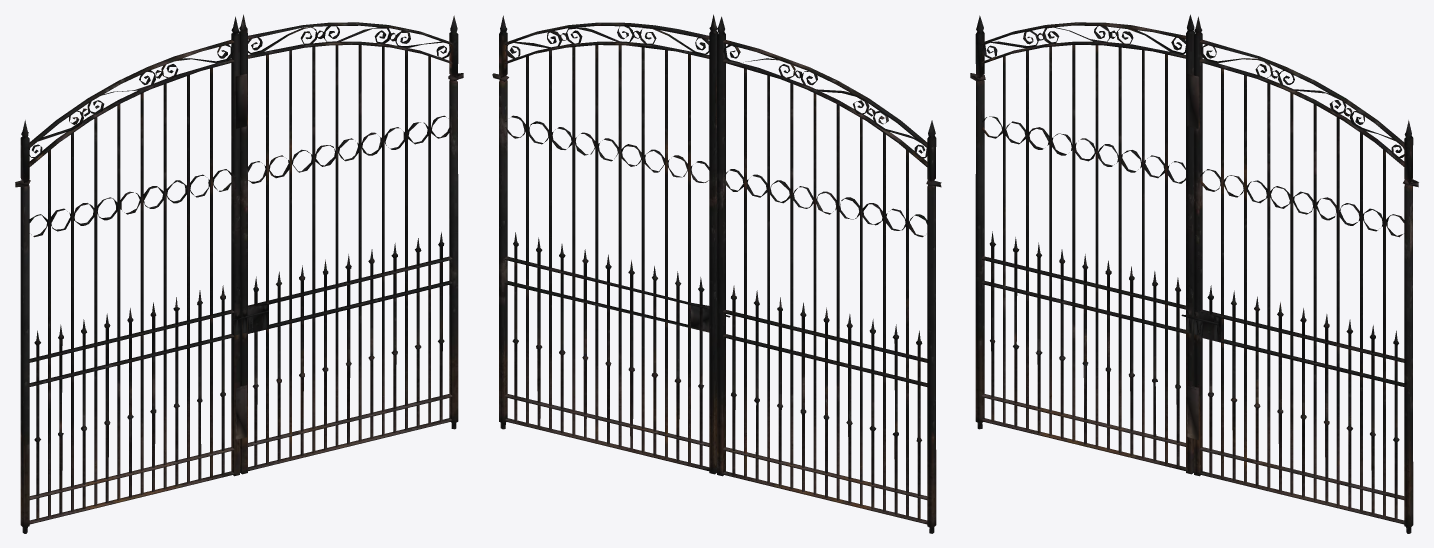
The model's file is large_iron_gate_1k_lo.glb.
The picture shows the model from 3 angles, left to right: view 1: azimuth 30°, elevation 25°; view 2: azimuth 150°, elevation 25°; view 3: azimuth 330°, elevation 25°; orthographic projection.
Parts seen in each view (by area): view 1: large_iron_gate_left_door, large_iron_gate_right_door; view 2: large_iron_gate_left_door, large_iron_gate_right_door; view 3: large_iron_gate_right_door, large_iron_gate_left_door.
Part boxes in pixels (x1,y1,x2,y2): large_iron_gate_left_door: (20,16,241,533); large_iron_gate_right_door: (235,14,458,474); large_iron_gate_left_door: (717,16,936,533); large_iron_gate_right_door: (499,14,717,474); large_iron_gate_right_door: (1187,16,1413,533); large_iron_gate_left_door: (975,14,1194,474).
Bounding box in the file's own units: 2.95 × 2.93 × 0.0948.
Materials: 1 (1 with a texture image).
